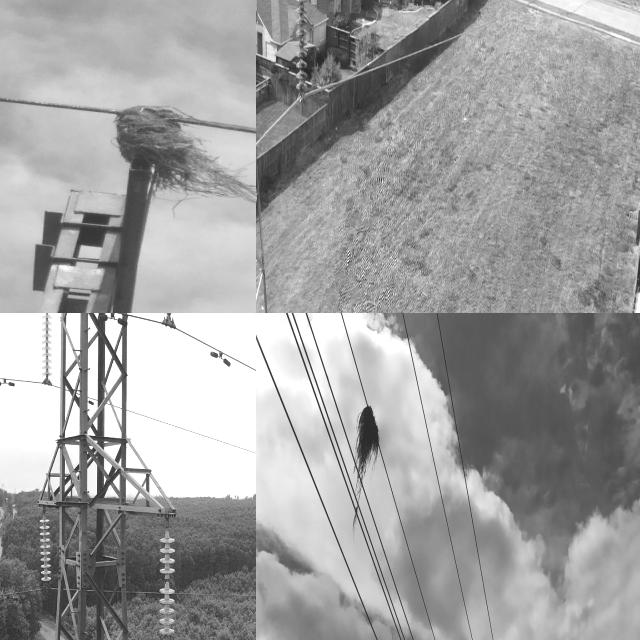杆塔: (26, 313, 186, 640)
植被遮挡: (56, 95, 256, 218), (349, 398, 385, 532)
正常绝缘子: (152, 520, 183, 640), (289, 0, 313, 111), (37, 501, 56, 595), (36, 313, 56, 391)
绝缘子破损: (163, 575, 171, 585)
